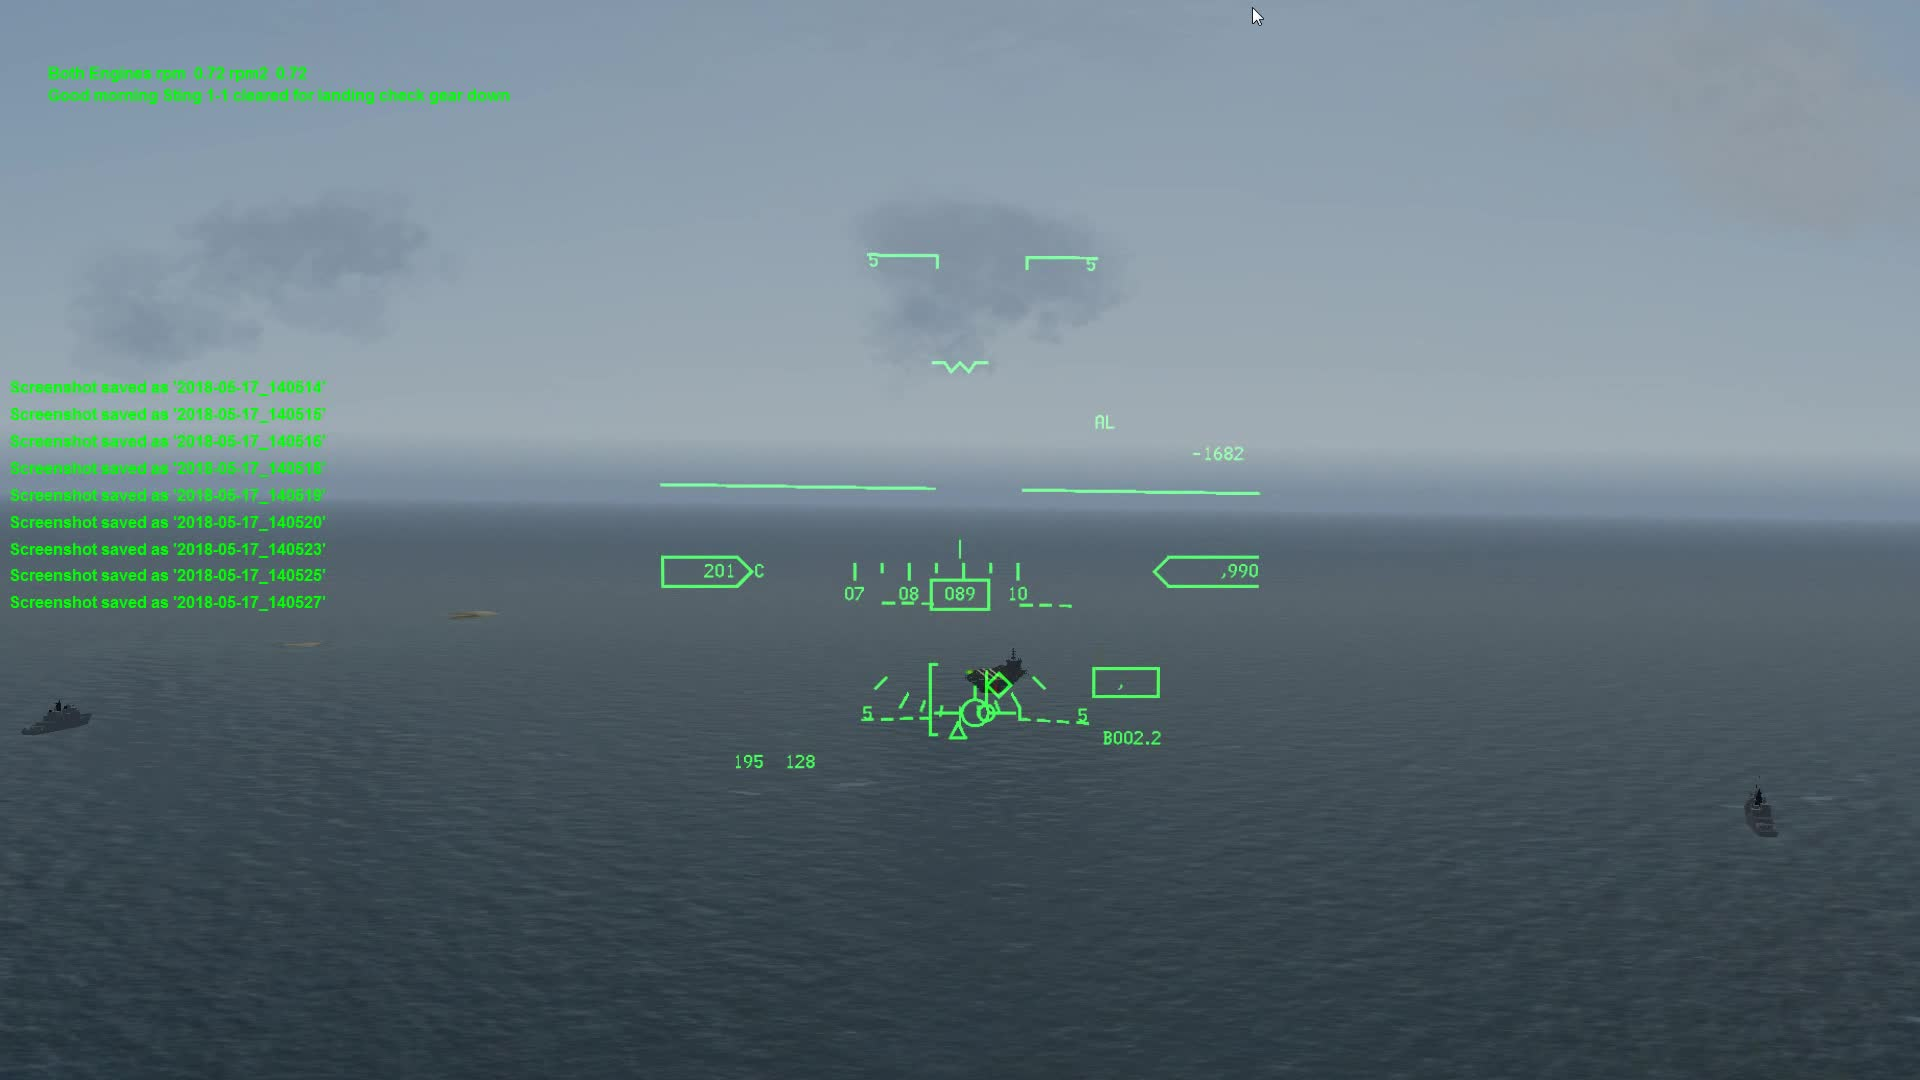speed vector: (935, 669, 1029, 731)
